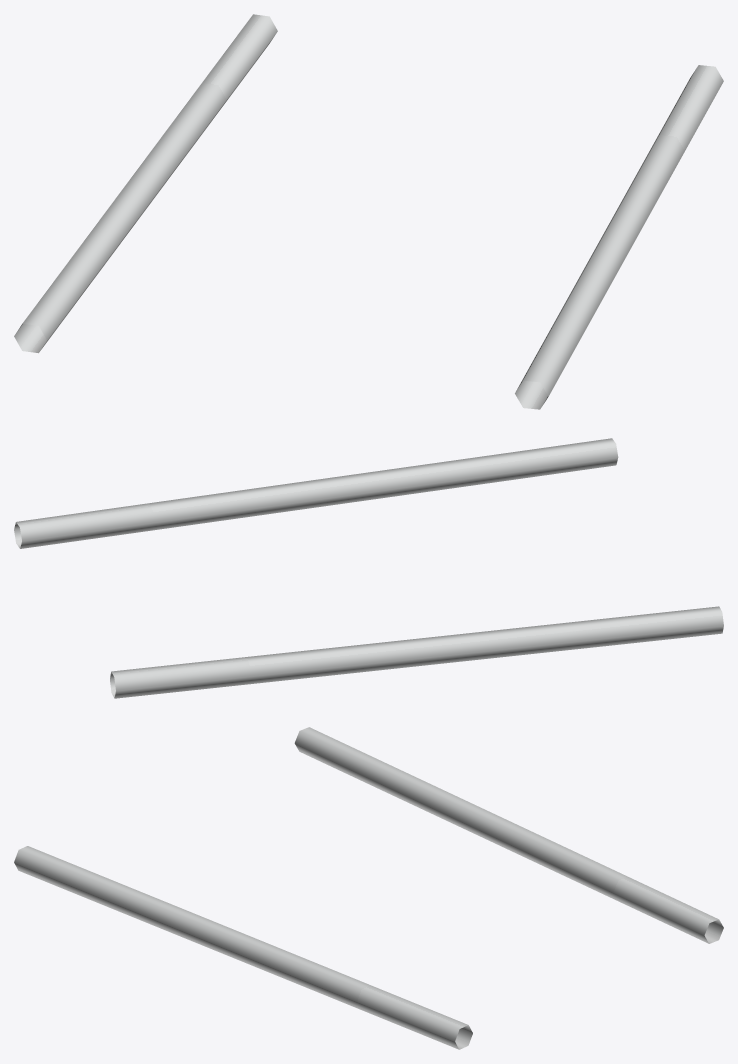
Rendered from nycsignalarm_diagonal12_c11.obj.
3 renders of one model, top to bottom at view 1: azimuth 30°, elevation 25°; view 2: azimuth 150°, elevation 25°; view 3: azimuth 270°, elevation 25°, orthographic. The views are drawn at different scales.
Visible parts, largest first — view 1: nycsignalarm_diagonal12_c11; view 2: nycsignalarm_diagonal12_c11; view 3: nycsignalarm_diagonal12_c11.
Part boxes in pixels (left/top/right/bottom): nycsignalarm_diagonal12_c11: left=14, top=14, right=723, bottom=409; nycsignalarm_diagonal12_c11: left=14, top=438, right=723, bottom=698; nycsignalarm_diagonal12_c11: left=14, top=727, right=723, bottom=1049.
Bounding box in the file's own units: 1.67 × 0.0696 × 1.67.
